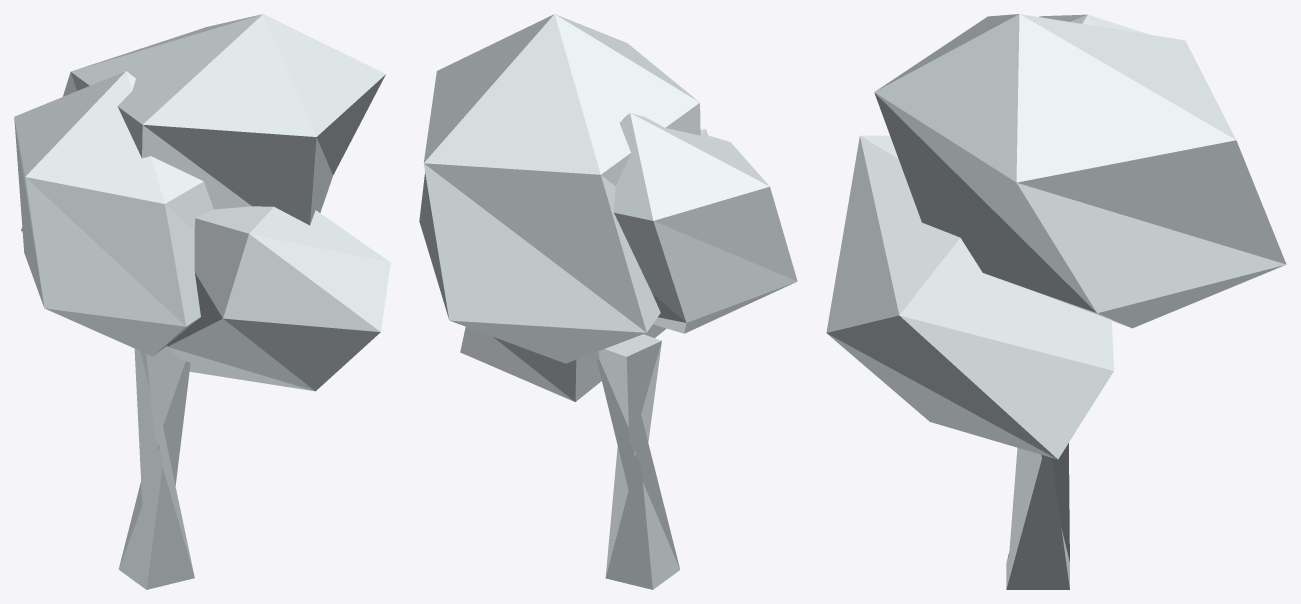
Rendered from Tree.008.fbx.
The picture shows the model from 3 angles, left to right: view 1: azimuth 30°, elevation 25°; view 2: azimuth 150°, elevation 25°; view 3: azimuth 270°, elevation 25°; orthographic projection. The views are drawn at different scales.
Parts seen in each view (by area): view 1: Tree.008; view 2: Tree.008; view 3: Tree.008.
Boxes of the visible parts, bbox=[...] form: Tree.008: bbox=[14, 14, 390, 589]; Tree.008: bbox=[419, 14, 797, 589]; Tree.008: bbox=[826, 14, 1286, 589].
Bounding box in the file's own units: 1.11 × 1.62 × 1.09.
